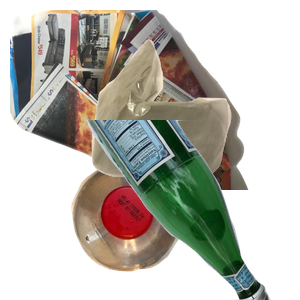glass: (75, 120, 300, 300)
paper: (10, 10, 250, 190)
plastic: (69, 161, 245, 300)
trash: (89, 37, 300, 213)
